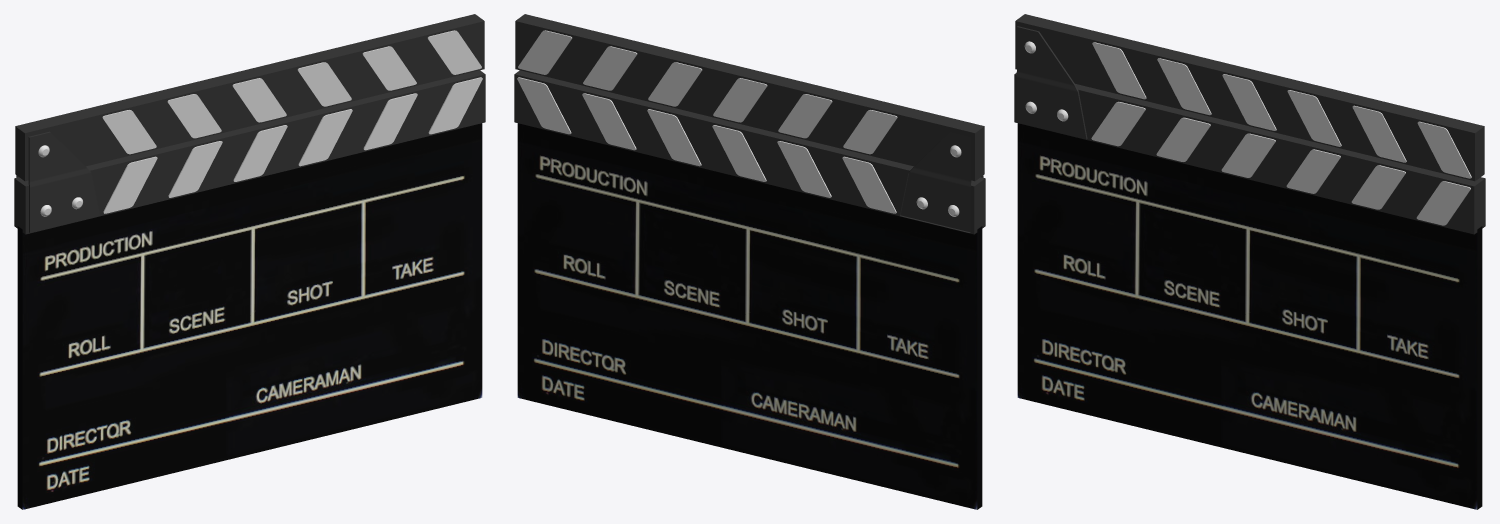
The model's file is movie.fbx.
3 views of the same model, side by side, from view 1: azimuth 30°, elevation 25°; view 2: azimuth 150°, elevation 25°; view 3: azimuth 330°, elevation 25° (orthographic).
Visible parts, largest first — view 1: Movie numberator, Cube.007, Cube.006, Cube.008, Cube.009, Plane.003; view 2: Movie numberator, Cube.007, Cube.006, Cube.008, Cube.009, Plane.008; view 3: Movie numberator, Cube.007, Cube.006, Cube.009, Cube.008, Plane.003.
Boxes of the visible parts, x1,y1,x2,y2 form: Movie numberator: [17, 123, 482, 509]; Cube.007: [15, 14, 484, 181]; Cube.006: [14, 70, 485, 234]; Cube.008: [103, 77, 482, 213]; Cube.009: [102, 30, 481, 154]; Plane.003: [28, 131, 99, 232]; Movie numberator: [517, 123, 982, 509]; Cube.007: [515, 14, 984, 181]; Cube.006: [514, 70, 985, 234]; Cube.008: [517, 77, 896, 213]; Cube.009: [518, 30, 897, 154]; Plane.008: [899, 132, 971, 232]; Movie numberator: [1017, 123, 1482, 509]; Cube.007: [1015, 14, 1484, 181]; Cube.006: [1014, 73, 1485, 234]; Cube.009: [1092, 42, 1471, 178]; Cube.008: [1091, 101, 1470, 225]; Plane.003: [1016, 26, 1087, 139].
Size of the model in its own units: 34.38 by 27.03 by 2.36.
5 materials, 1 textured.
